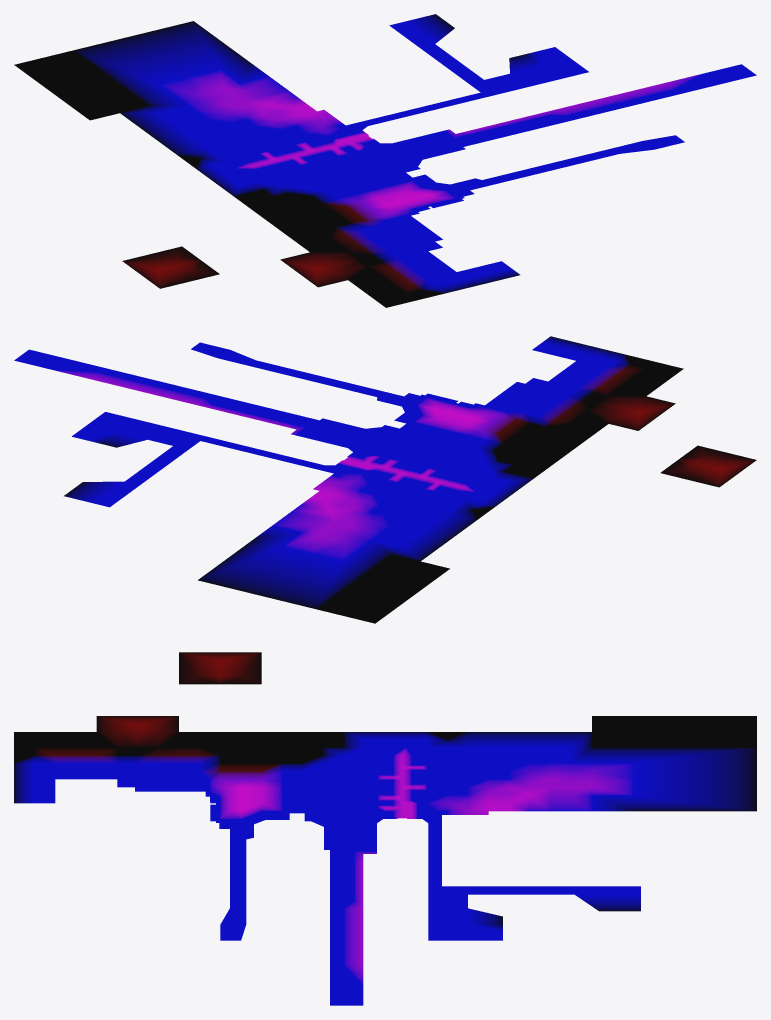
3 views of the same model, one above another, from view 1: azimuth 30°, elevation 25°; view 2: azimuth 150°, elevation 25°; view 3: azimuth 270°, elevation 25° (orthographic). The views are drawn at different scales.
Parts seen in each view (by area): view 1: G:\FFXIV-MapTools\exports\e3t1\bg\ex2\02_est_e3\twn\e3t1\bgp; view 2: G:\FFXIV-MapTools\exports\e3t1\bg\ex2\02_est_e3\twn\e3t1\bgp; view 3: G:\FFXIV-MapTools\exports\e3t1\bg\ex2\02_est_e3\twn\e3t1\bgp.
Part boxes in pixels (x1,y1,x2,y2): G:\FFXIV-MapTools\exports\e3t1\bg\ex2\02_est_e3\twn\e3t1\bgp: [14, 14, 756, 307]; G:\FFXIV-MapTools\exports\e3t1\bg\ex2\02_est_e3\twn\e3t1\bgp: [14, 336, 756, 623]; G:\FFXIV-MapTools\exports\e3t1\bg\ex2\02_est_e3\twn\e3t1\bgp: [14, 652, 756, 1005].
Size of what is drawn, in the model's own units: 850 by 9.54e-07 by 756.
